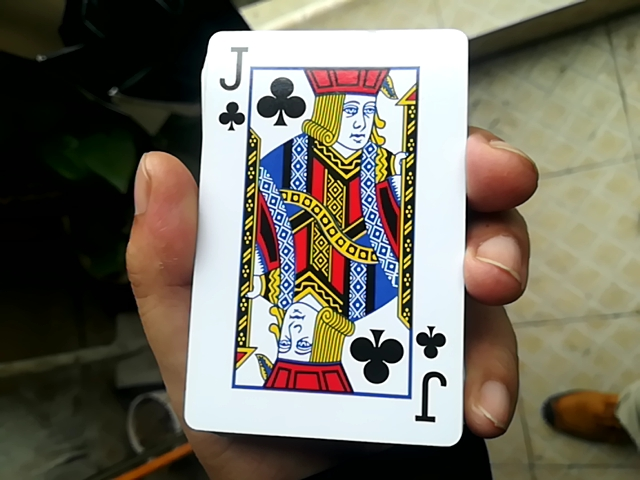mh j: (177, 19, 467, 436)
